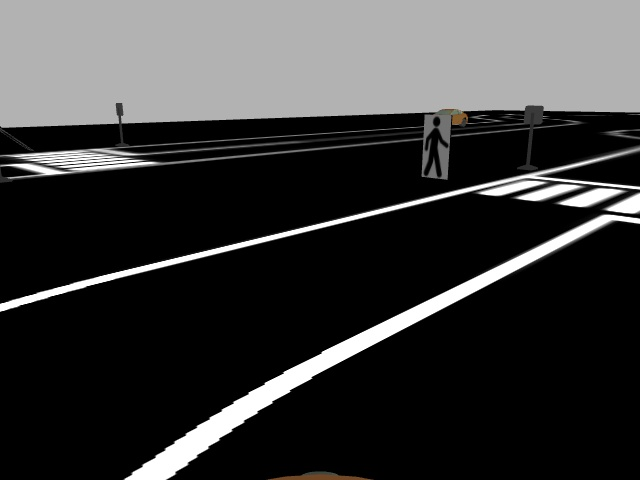pedestrian: (422, 113, 452, 179)
